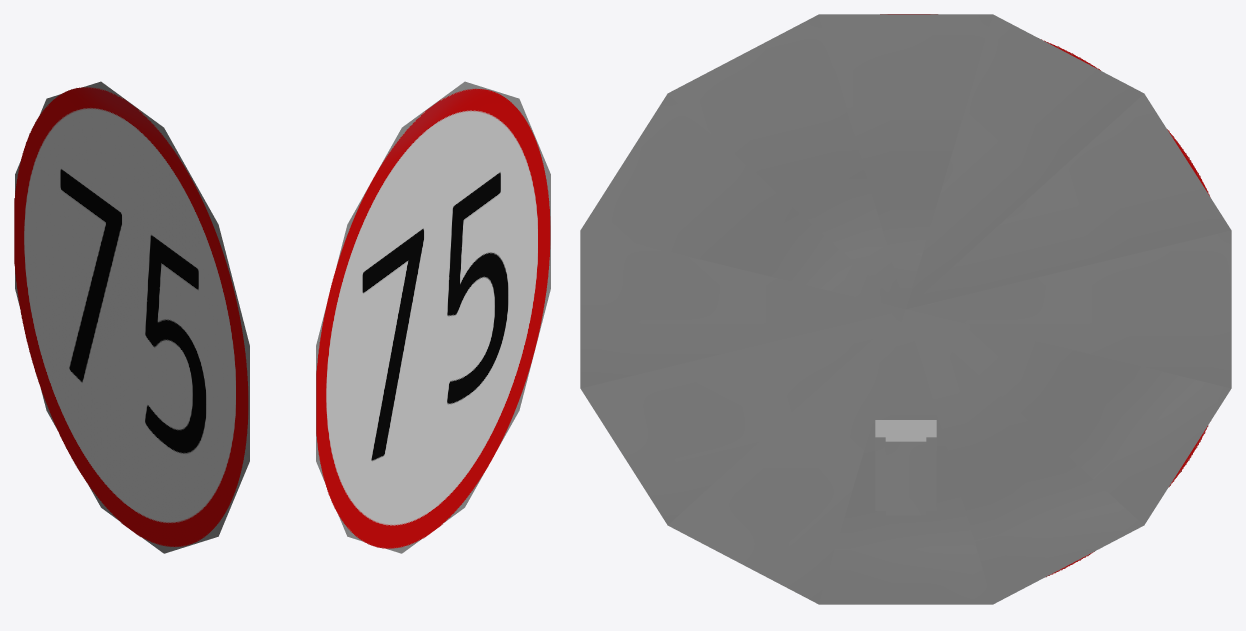
File: speed_75_large.obj
3 views of the same model, side by side, from view 1: azimuth 30°, elevation 25°; view 2: azimuth 150°, elevation 25°; view 3: azimuth 270°, elevation 25° (orthographic). The views are drawn at different scales.
Parts seen in each view (by area): view 1: cube, circle; view 2: cube, circle; view 3: circle, cube.
Boxes of the visible parts, bbox=[...] form: cube: bbox=[14, 87, 248, 547]; circle: bbox=[15, 81, 249, 553]; cube: bbox=[316, 88, 550, 548]; circle: bbox=[316, 81, 550, 553]; circle: bbox=[580, 14, 1231, 604]; cube: bbox=[875, 14, 1209, 577].
Bounding box in the file's own units: 0.0797 × 1 × 1.
2 materials, 2 textured.
